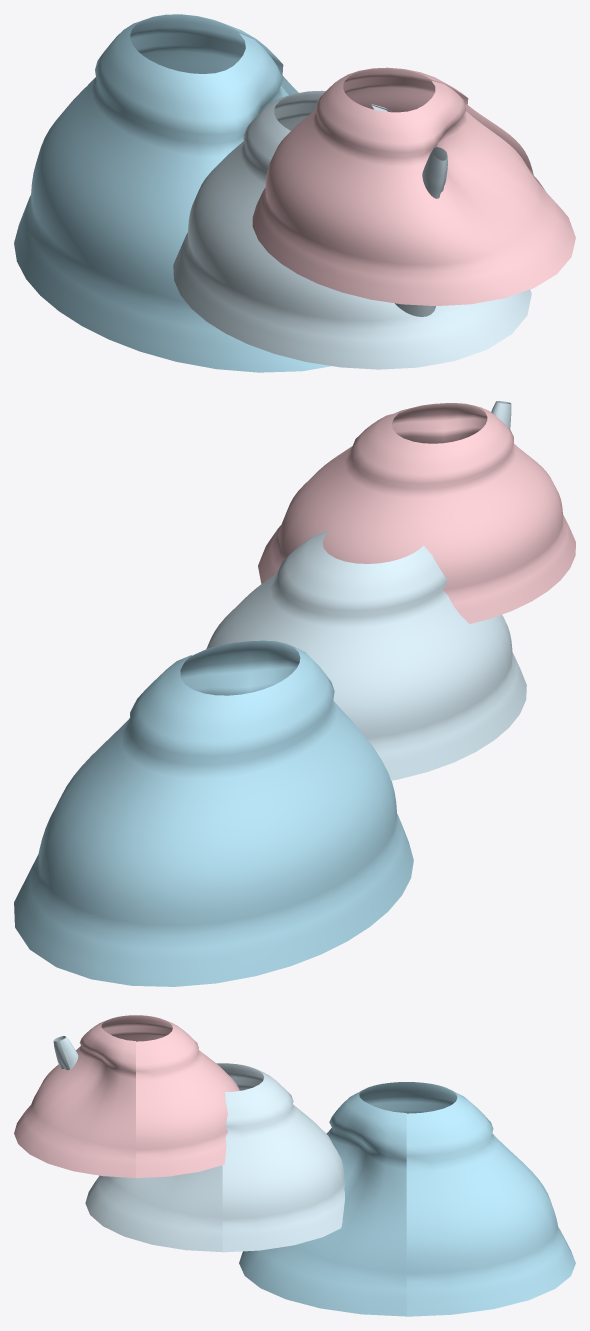
File: respiratory.glb
3 views of the same model, one above another, from view 1: azimuth 30°, elevation 25°; view 2: azimuth 150°, elevation 25°; view 3: azimuth 270°, elevation 25° (orthographic). The views are drawn at different scales.
Visible parts, largest first — view 1: Mesh_Avian_SaccusPneumaticusAbdominalis, Mesh_Avian_Pulmo, Mesh_Avian_SacciPneumaticiThoracici, Mesh_Avian_Syrinx; view 2: Mesh_Avian_SaccusPneumaticusAbdominalis, Mesh_Avian_Pulmo, Mesh_Avian_SacciPneumaticiThoracici; view 3: Mesh_Avian_SaccusPneumaticusAbdominalis, Mesh_Avian_SacciPneumaticiThoracici, Mesh_Avian_Pulmo, Mesh_Avian_Syrinx.
Boxes of the visible parts, x1=… form: Mesh_Avian_SaccusPneumaticusAbdominalis: x1=14, y1=14, x2=331, y2=372; Mesh_Avian_Pulmo: x1=252, y1=67, x2=575, y2=305; Mesh_Avian_SacciPneumaticiThoracici: x1=173, y1=90, x2=531, y2=369; Mesh_Avian_Syrinx: x1=395, y1=147, x2=447, y2=316; Mesh_Avian_SaccusPneumaticusAbdominalis: x1=14, y1=640, x2=413, y2=986; Mesh_Avian_Pulmo: x1=258, y1=403, x2=575, y2=623; Mesh_Avian_SacciPneumaticiThoracici: x1=206, y1=530, x2=526, y2=780; Mesh_Avian_SaccusPneumaticusAbdominalis: x1=239, y1=1082, x2=575, y2=1316; Mesh_Avian_SacciPneumaticiThoracici: x1=85, y1=1063, x2=344, y2=1252; Mesh_Avian_Pulmo: x1=14, y1=1015, x2=239, y2=1178; Mesh_Avian_Syrinx: x1=53, y1=1036, x2=78, y2=1069.
Size of the model in its own units: 0.2304 by 0.23 by 0.5189.
